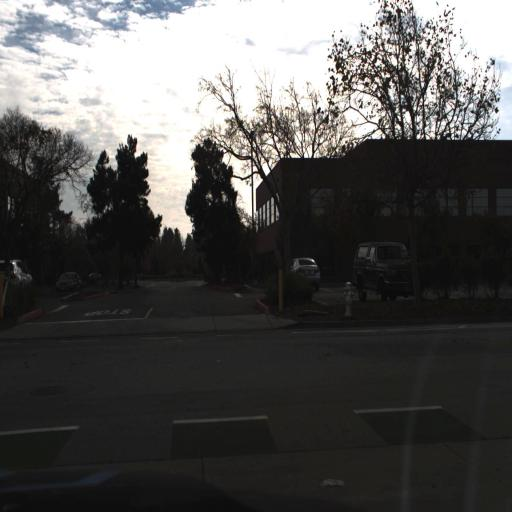car: (351, 238, 421, 304), (0, 256, 35, 296), (291, 253, 322, 294), (53, 268, 82, 298)
